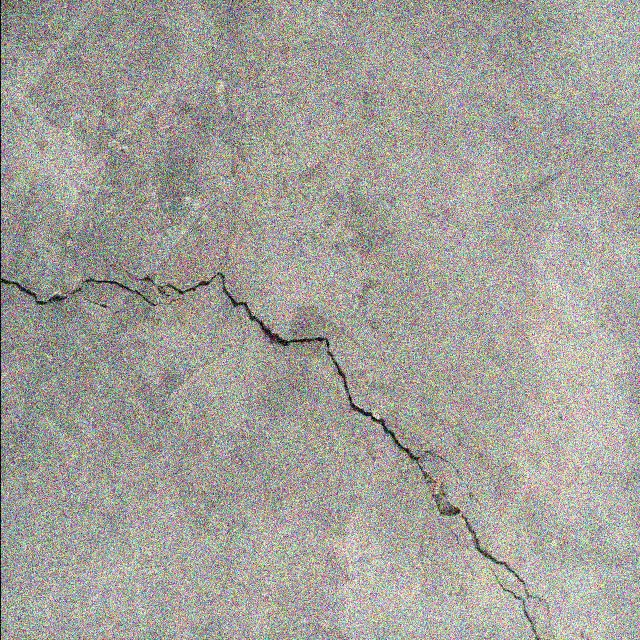SurfaceCrack: (0, 229, 627, 639)
